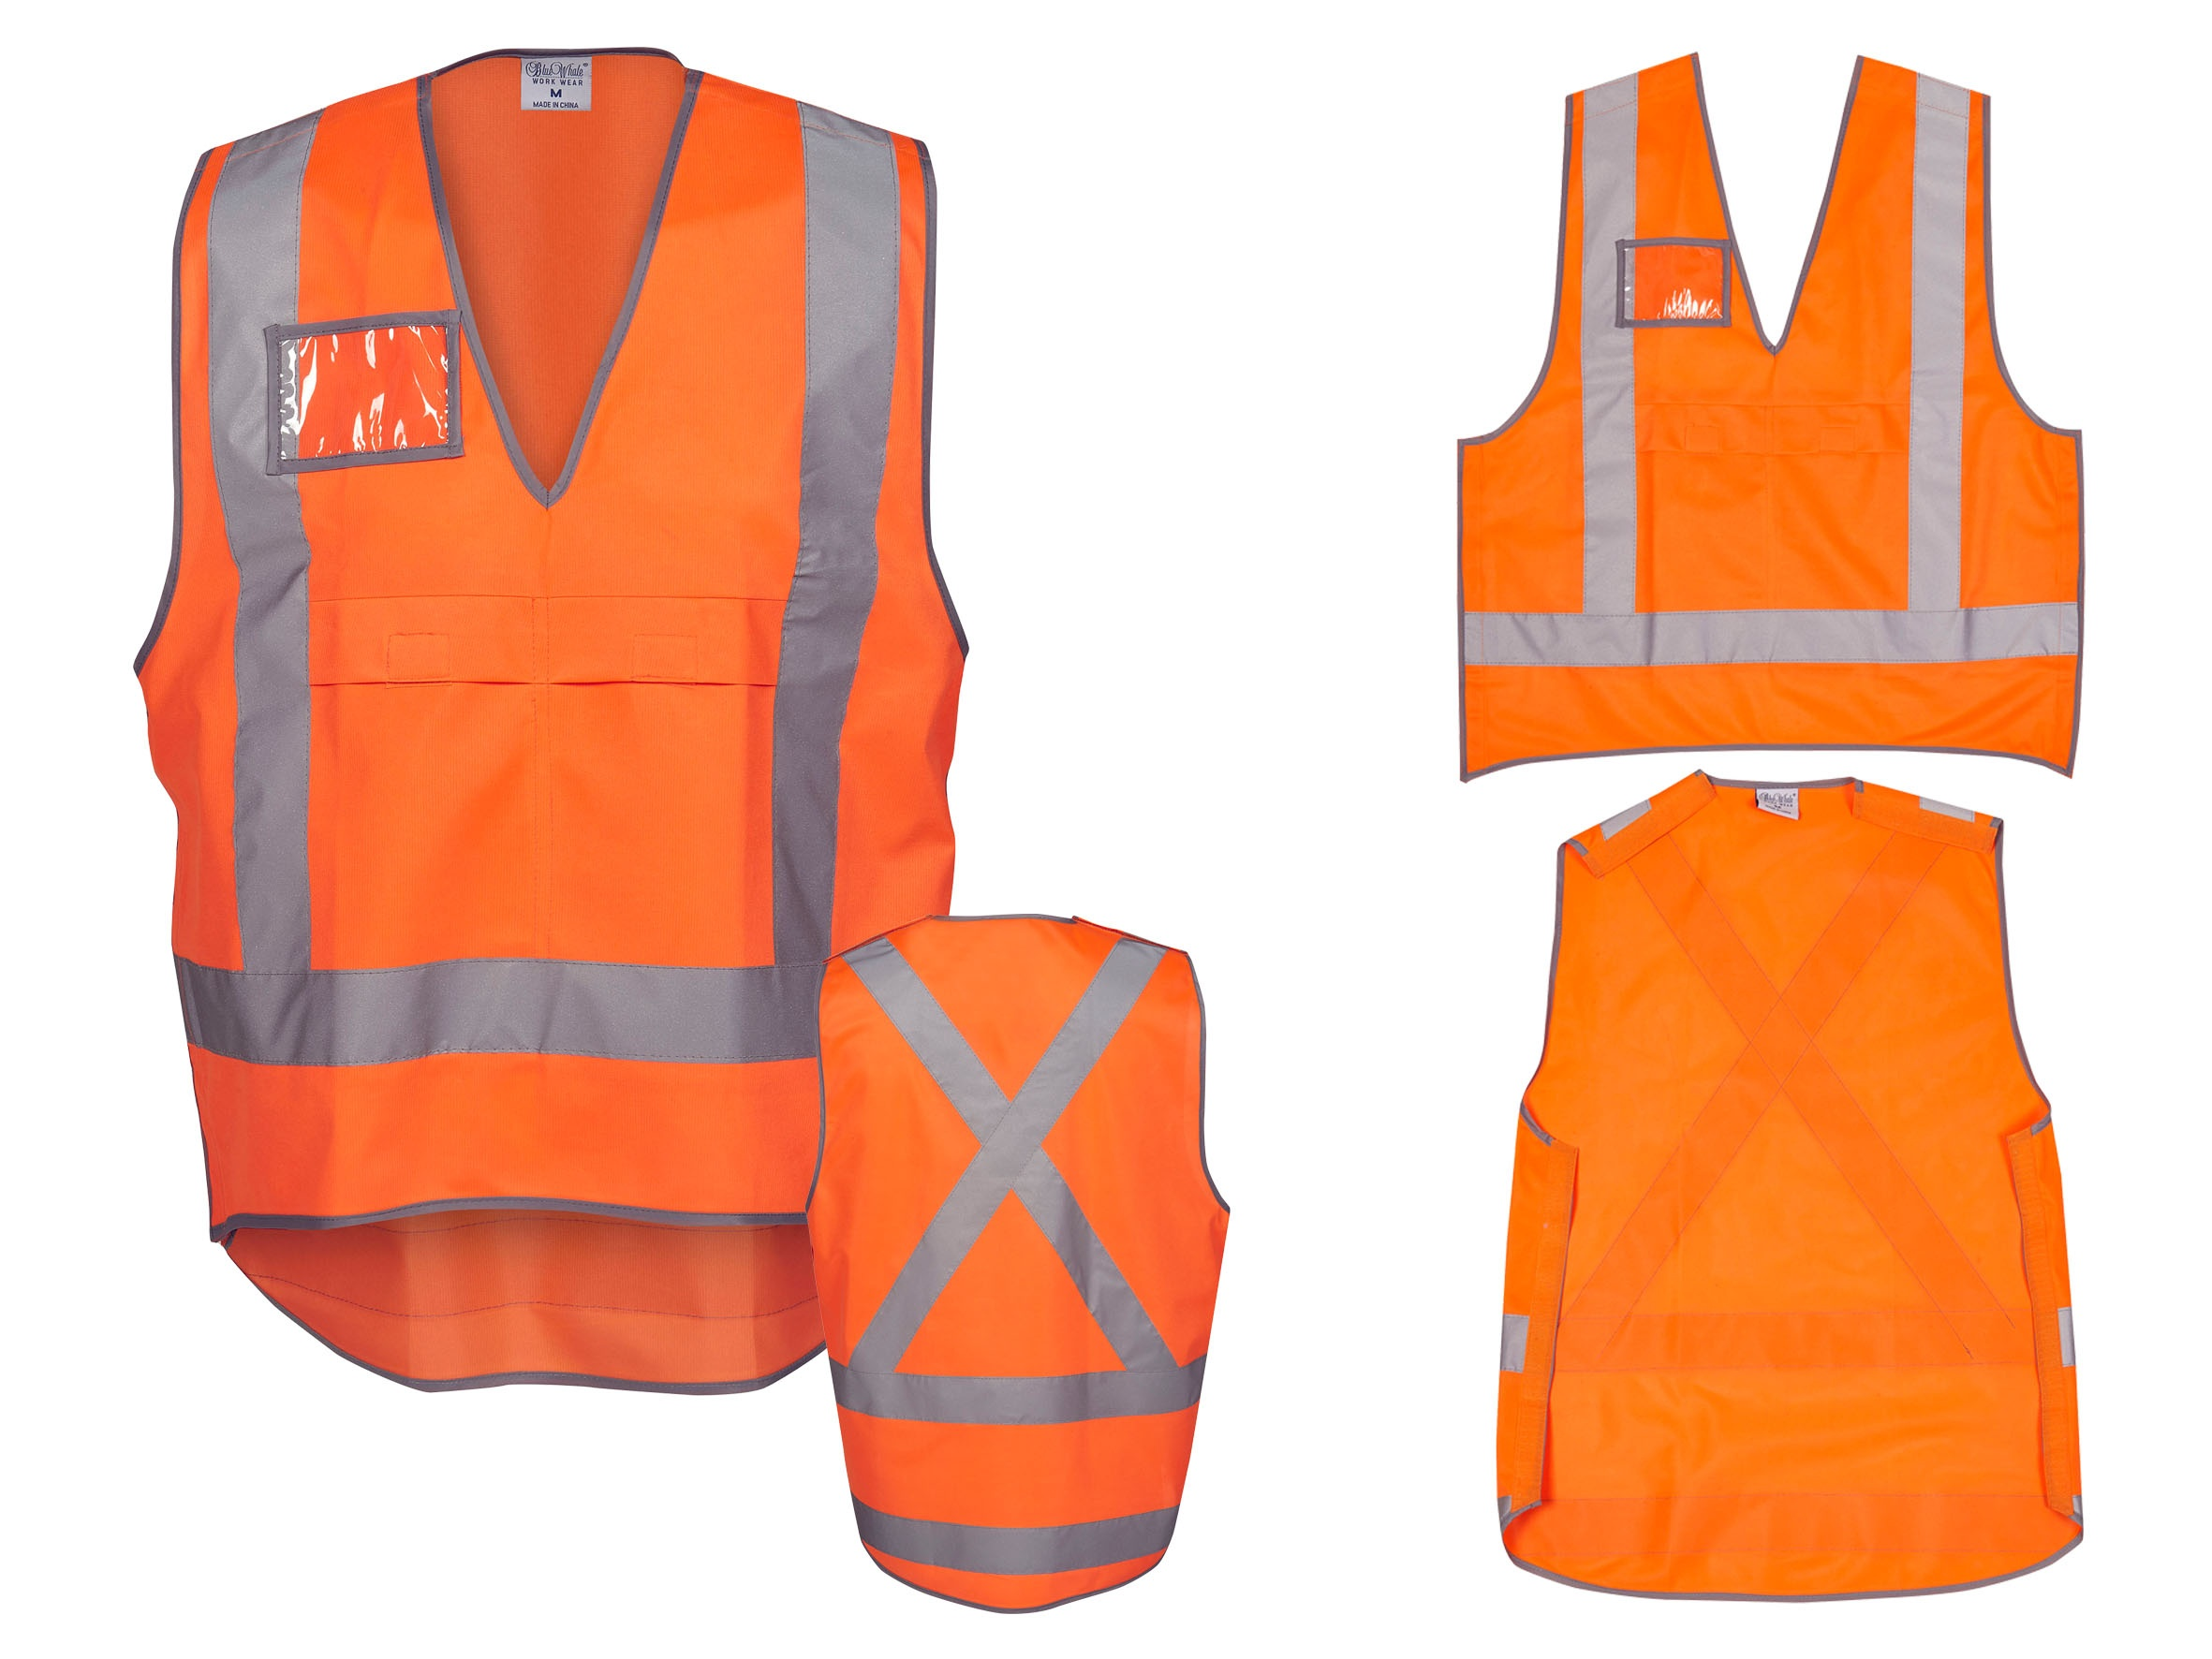safety vest: (162, 71, 953, 1387), (1504, 786, 2090, 1610), (1455, 66, 2123, 772), (800, 901, 1253, 1615)
